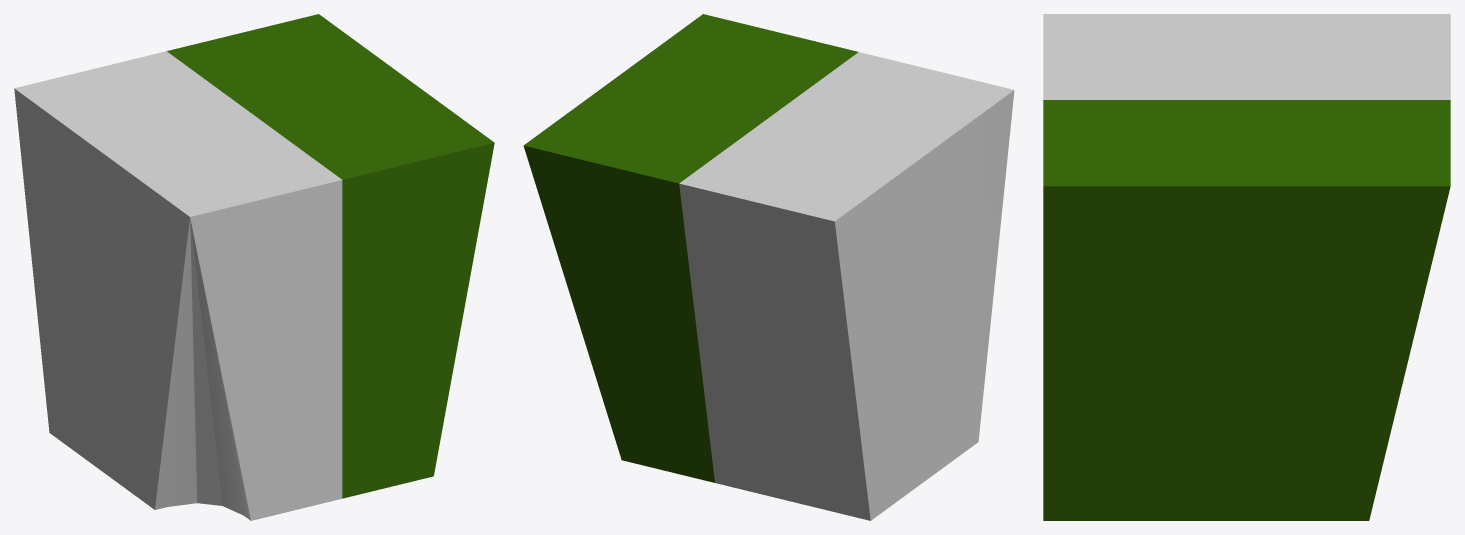
The model's file is Grass_03_L_F.fbx.
3 views of the same model, side by side, from view 1: azimuth 30°, elevation 25°; view 2: azimuth 150°, elevation 25°; view 3: azimuth 270°, elevation 25° (orthographic). The views are drawn at different scales.
Visible parts, largest first — view 1: 3, 1, 4, 2; view 2: 4, 2, 3, 1; view 3: 1, 2, 3, 4.
Part boxes in pixels (box(x1,y1,x2,y2)): 3: box(102, 115, 342, 520); 1: box(255, 78, 494, 498); 4: box(14, 51, 253, 470); 2: box(167, 14, 406, 115); 4: box(679, 118, 924, 520); 2: box(523, 80, 768, 482); 3: box(769, 52, 1014, 480); 1: box(613, 14, 858, 117); 1: box(1043, 100, 1246, 520); 2: box(1247, 100, 1450, 520); 3: box(1043, 14, 1246, 99); 4: box(1247, 14, 1450, 99).
Bounding box in the file's own units: 200 × 200 × 200.
